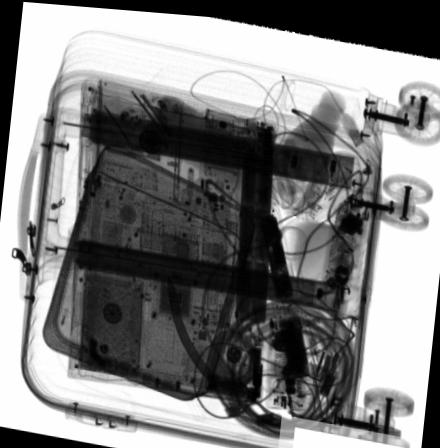Baton: (251, 194, 322, 423)
